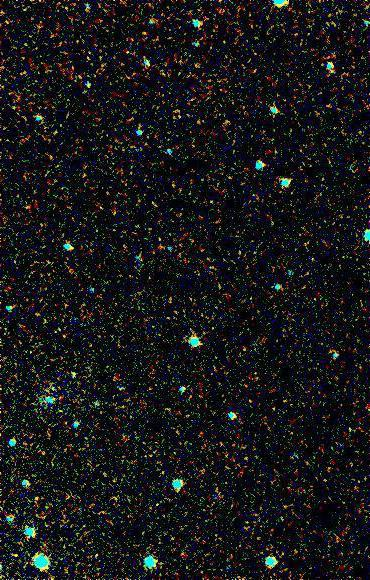star: (20, 484, 50, 514)
